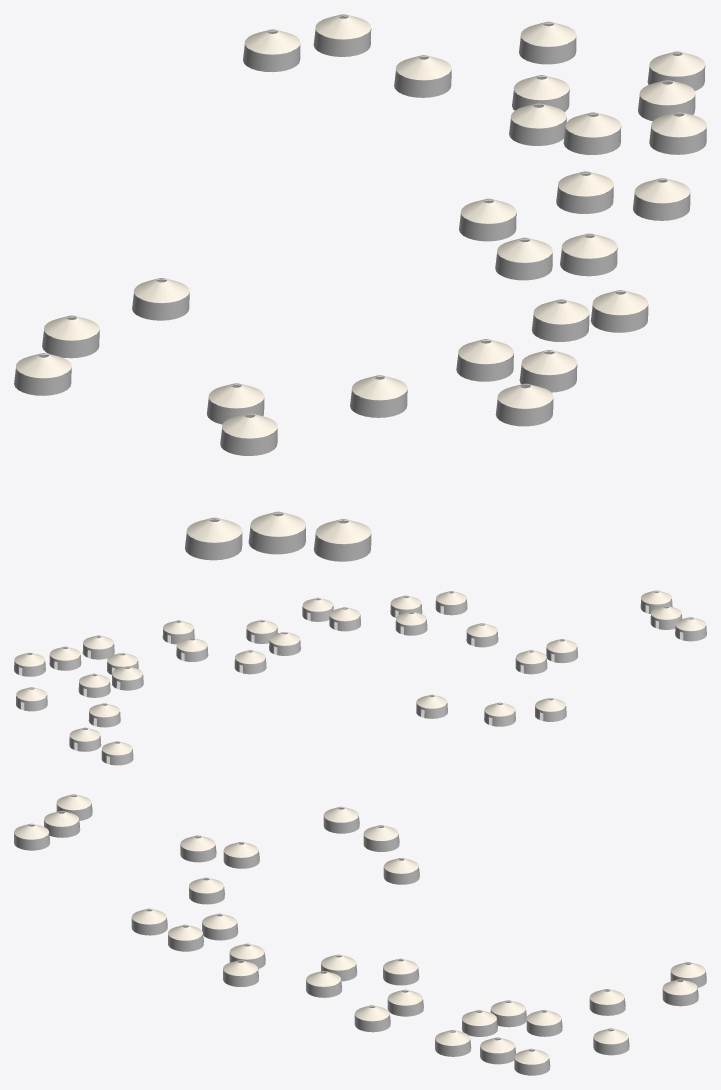
The model's file is tents.dae.
3 renders of one model, top to bottom at view 1: azimuth 30°, elevation 25°; view 2: azimuth 150°, elevation 25°; view 3: azimuth 270°, elevation 25°, orthographic. The views are drawn at different scales.
Visible parts, largest first — view 1: Model; view 2: Model; view 3: Model.
Boxes of the visible parts, bbox=[...] form: Model: bbox=[14, 14, 706, 561]; Model: bbox=[14, 590, 706, 765]; Model: bbox=[14, 794, 706, 1075].
Bounding box in the file's own units: 106 × 115 × 3.78.
